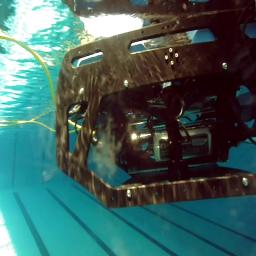Side: (54, 38, 256, 205)
